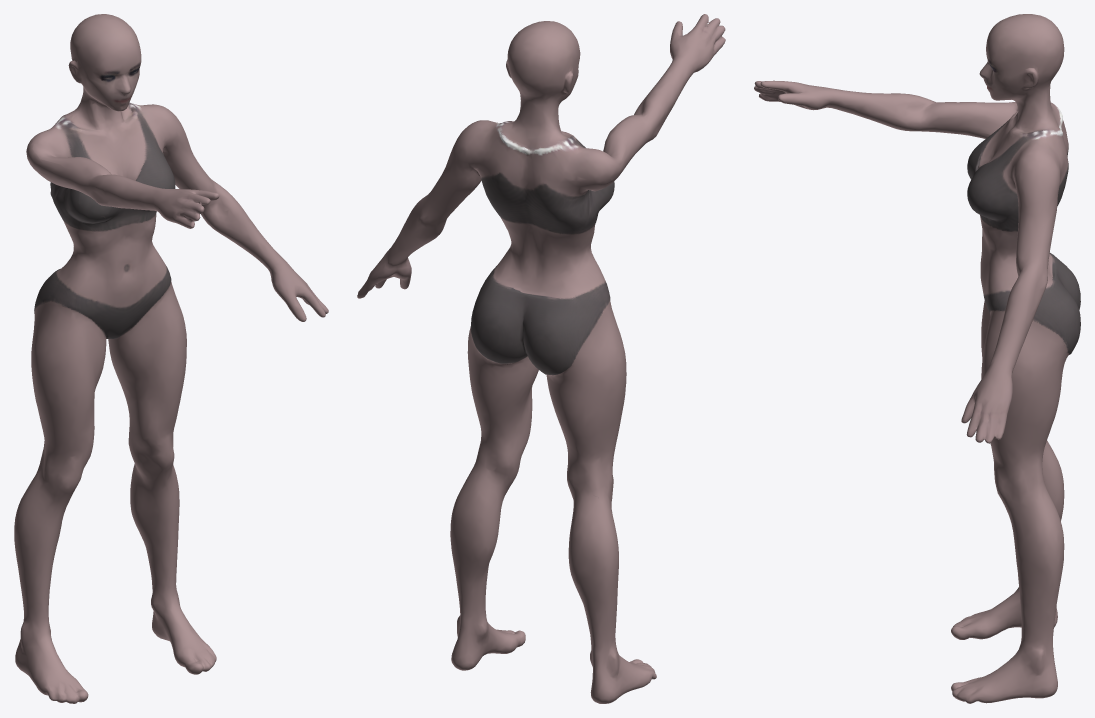
File: world_target-UpperArmL-90.glb
3 renders of one model, left to right at view 1: azimuth 30°, elevation 25°; view 2: azimuth 150°, elevation 25°; view 3: azimuth 270°, elevation 25°, orthographic.
Visible parts, largest first — view 1: world_target-UpperArmL-90; view 2: world_target-UpperArmL-90; view 3: world_target-UpperArmL-90.
Boxes of the visible parts, x1=… form: world_target-UpperArmL-90: x1=14, y1=14, x2=328, y2=703; world_target-UpperArmL-90: x1=357, y1=14, x2=725, y2=703; world_target-UpperArmL-90: x1=754, y1=14, x2=1080, y2=703.
Size of the model in its own units: 0.4619 by 1 by 0.4573.
1 material, 1 textured.
